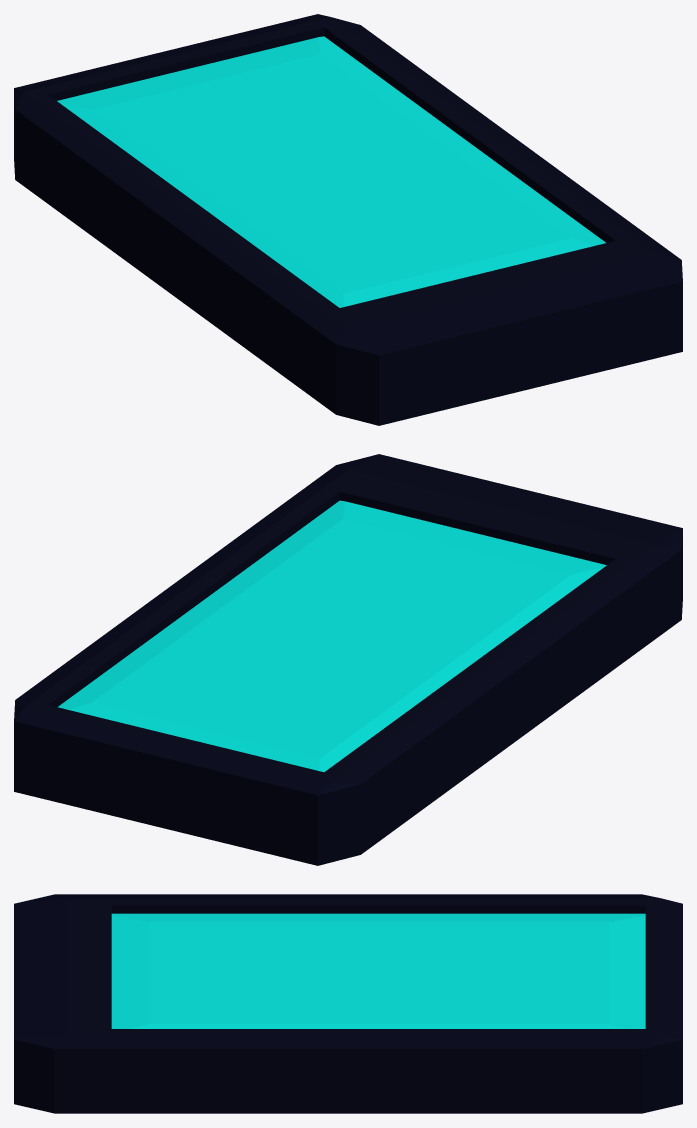
Rendered from phone.fbx.
The picture shows the model from 3 angles, top to bottom: view 1: azimuth 30°, elevation 25°; view 2: azimuth 150°, elevation 25°; view 3: azimuth 270°, elevation 25°; orthographic projection. The views are drawn at different scales.
Visible parts, largest first — view 1: Cube, Cube.001; view 2: Cube, Cube.001; view 3: Cube, Cube.001.
Part boxes in pixels (x1=…): Cube: x1=14, y1=14, x2=682, y2=425; Cube.001: x1=57, y1=36, x2=605, y2=307; Cube: x1=14, y1=454, x2=682, y2=865; Cube.001: x1=57, y1=500, x2=606, y2=771; Cube: x1=14, y1=894, x2=682, y2=1113; Cube.001: x1=111, y1=913, x2=645, y2=1028.
Size of the model in its own units: 109 by 24.24 by 200.
